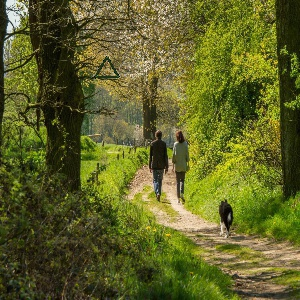triangle: (93, 55, 121, 81)
